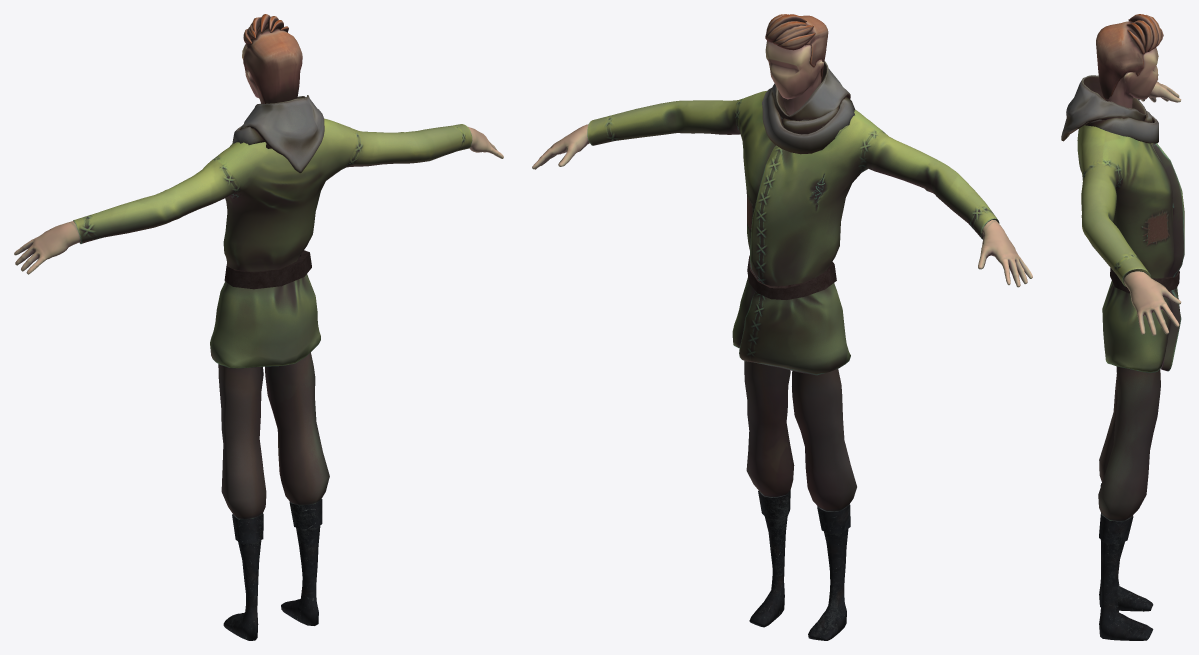
The model's file is mc_final_straight_legs.fbx.
3 views of the same model, side by side, from view 1: azimuth 30°, elevation 25°; view 2: azimuth 150°, elevation 25°; view 3: azimuth 270°, elevation 25° (orthographic). The views are drawn at different scales.
Visible parts, largest first — view 1: mc_clothing, mc_clothing.001, mc_body; view 2: mc_clothing, mc_clothing.001, mc_body; view 3: mc_clothing, mc_clothing.001, mc_body.
Boxes of the visible parts, box(x1,y1,x2,y2) form: mc_clothing: box(73, 95, 472, 368); mc_clothing.001: box(218, 352, 329, 640); mc_body: box(14, 14, 503, 274); mc_clothing: box(587, 61, 999, 375); mc_clothing.001: box(744, 361, 856, 640); mc_body: box(532, 14, 1032, 287); mc_clothing: box(1061, 75, 1184, 372); mc_clothing.001: box(1098, 366, 1160, 640); mc_body: box(1096, 14, 1181, 335).
Bounding box in the file's own units: 33.26 × 150 × 181.
